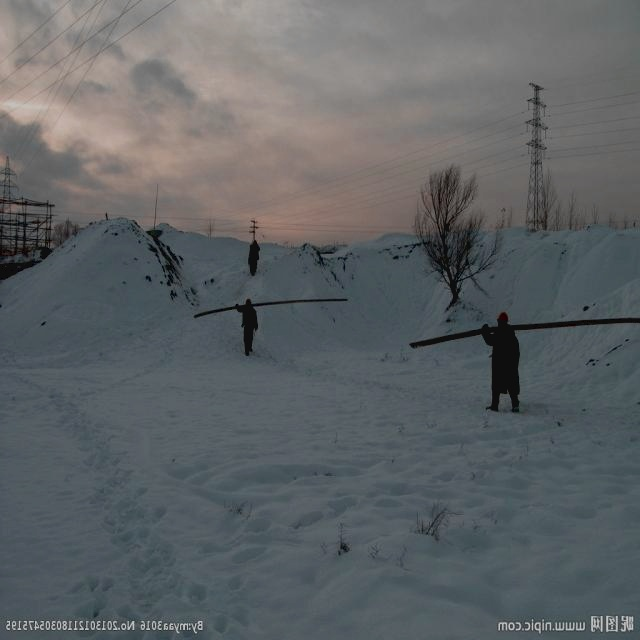Con_Casco: (496, 312, 507, 328)
